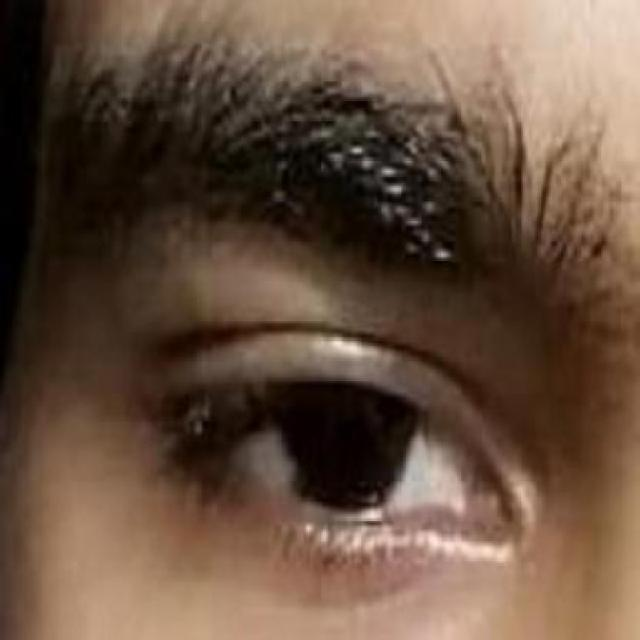awake: (234, 378, 486, 530)
